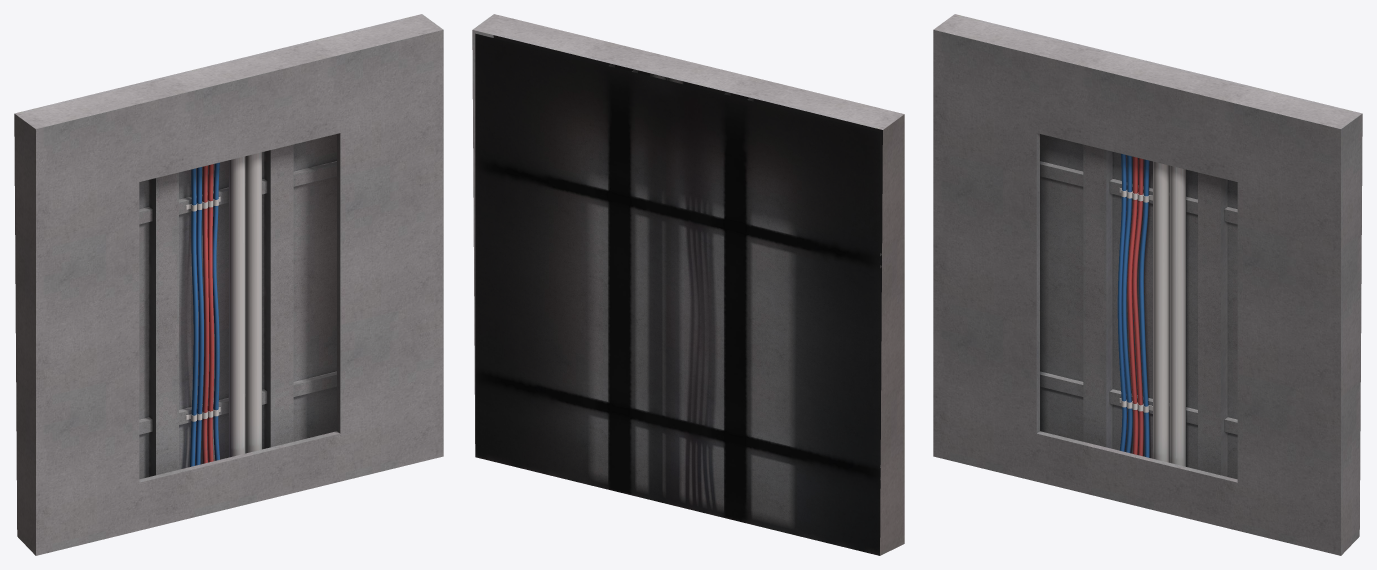
File: wall0624color.fbx
The picture shows the model from 3 angles, left to right: view 1: azimuth 30°, elevation 25°; view 2: azimuth 150°, elevation 25°; view 3: azimuth 330°, elevation 25°; orthographic projection.
Visible parts, largest first — view 1: WALL_out, WALL_B, pipe, cable, WALL_A; view 2: WALL_B, WALL_out, WALL_A; view 3: WALL_out, WALL_B, pipe, cable, WALL_A.
Part boxes in pixels (x1=…): WALL_out: x1=14, y1=14, x2=443, y2=555; WALL_B: x1=139, y1=134, x2=336, y2=479; pipe: x1=229, y1=152, x2=261, y2=457; cable: x1=190, y1=162, x2=219, y2=466; WALL_A: x1=139, y1=133, x2=340, y2=482; WALL_B: x1=475, y1=33, x2=881, y2=555; WALL_out: x1=472, y1=14, x2=904, y2=555; WALL_A: x1=493, y1=35, x2=882, y2=537; WALL_out: x1=933, y1=14, x2=1362, y2=555; WALL_B: x1=1040, y1=134, x2=1237, y2=479; pipe: x1=1153, y1=161, x2=1185, y2=466; cable: x1=1117, y1=153, x2=1149, y2=457; WALL_A: x1=1036, y1=133, x2=1237, y2=482.
Bounding box in the file's own units: 142 × 142 × 13.
6 materials, 6 textured.
